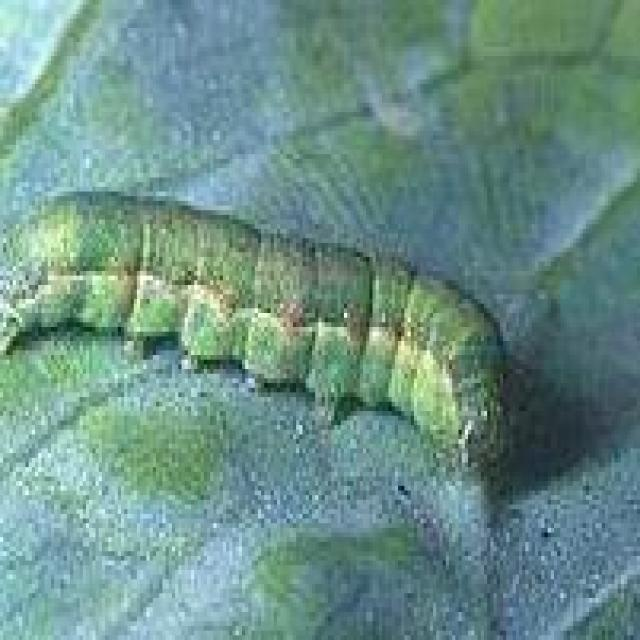BeetArmyWorm-Larva-: (10, 186, 517, 476)
